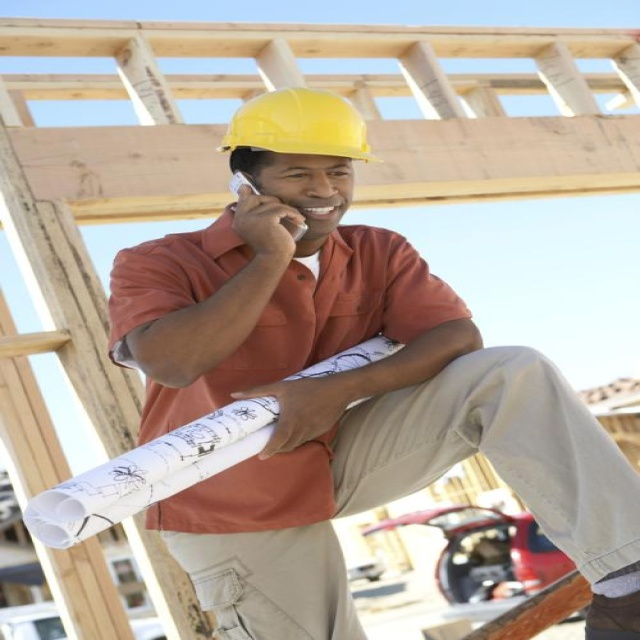Helmet: (217, 75, 390, 250)
Reflective vest: (119, 228, 420, 531)
